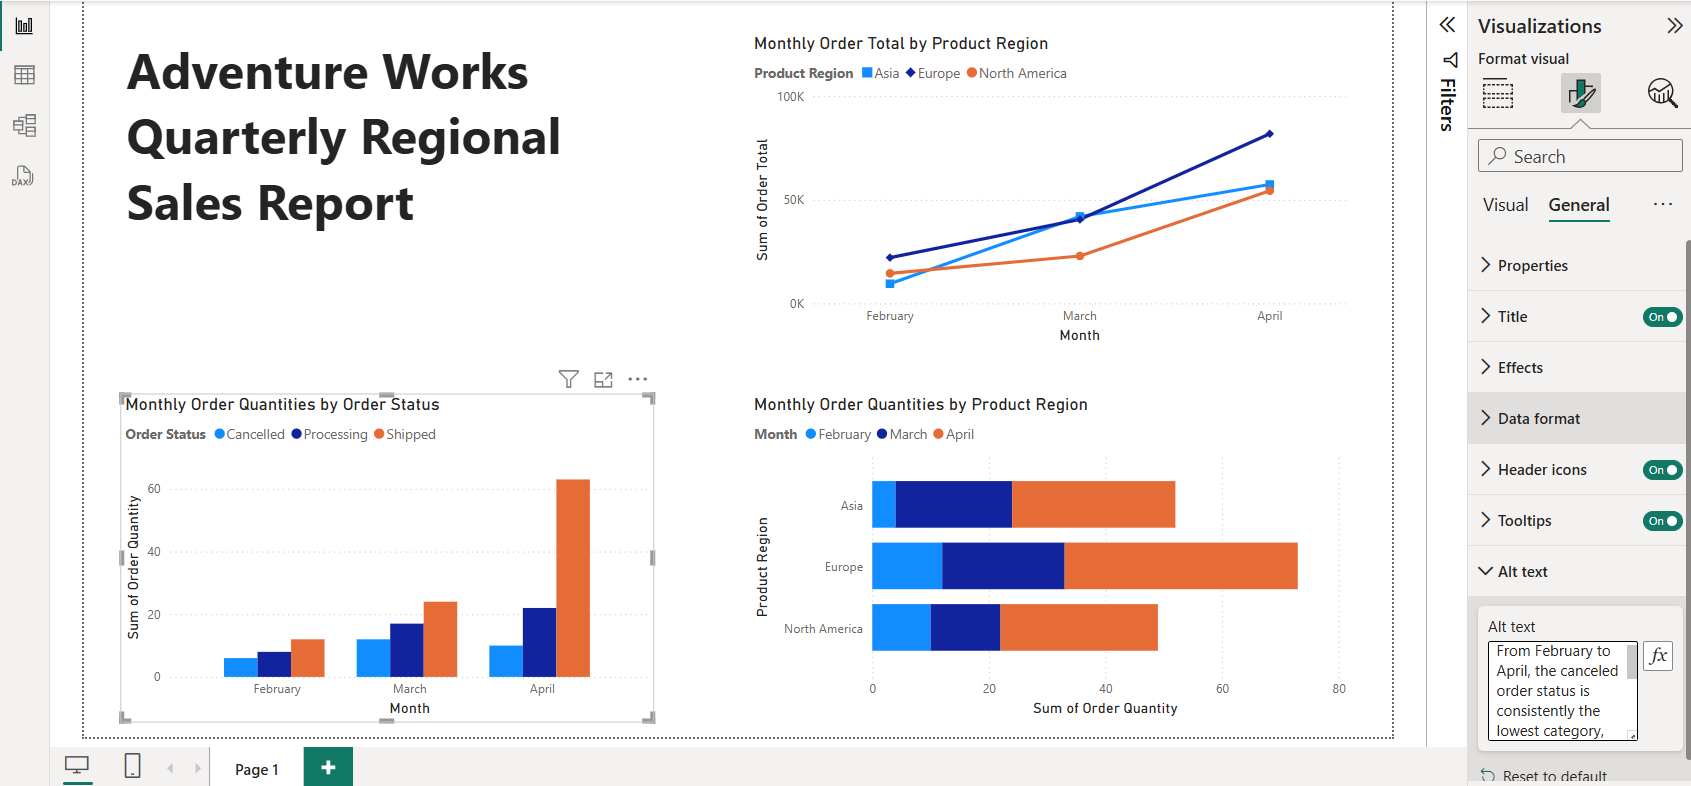

Layout of this report page (visuals, bound fields, positions):
{"tool":"powerbi","page":{"name":"Page 1","canvas":[1280,720],"ordinal":0},"visuals":[{"type":"barChart","title":"Monthly Order Quantities by Product Region","fields":{"Category":["Sales.Product Region"],"Y":["Sum(Sales.Order Quantity)"],"Series":["Sales.Order Date.Variation.Date Hierarchy.Month"]},"box":[650,384,589,321],"z":3000},{"type":"clusteredColumnChart","title":"Monthly Order Quantities by Order Status","fields":{"Category":["Sales.Month"],"Y":["Sum(Sales.Order Quantity)"],"Series":["Sales.Order Status"]},"box":[36,384,522,321],"z":3125},{"type":"lineChart","title":"Monthly Order Total by Product Region","fields":{"Category":["Sales.Month"],"Y":["Sum(Sales.Order Total)"],"Series":["Sales.Product Region"]},"box":[650,30,589,309],"z":3250},{"type":"textbox","box":[36.2,29.8,522.2,309.5],"z":3500}]}

Visuals, with their boxes on the page's 1280x720 design canvas (x1, y1, x2, y2). These are canvas units, not pixel positions in the 1691x786 screenshot, which may show the page scaled, cropped or inside an application window:
"Monthly Order Quantities by Product Region" barChart: Rect(650, 384, 1239, 705)
"Monthly Order Quantities by Order Status" clusteredColumnChart: Rect(36, 384, 558, 705)
"Monthly Order Total by Product Region" lineChart: Rect(650, 30, 1239, 339)
textbox: Rect(36, 30, 558, 339)
